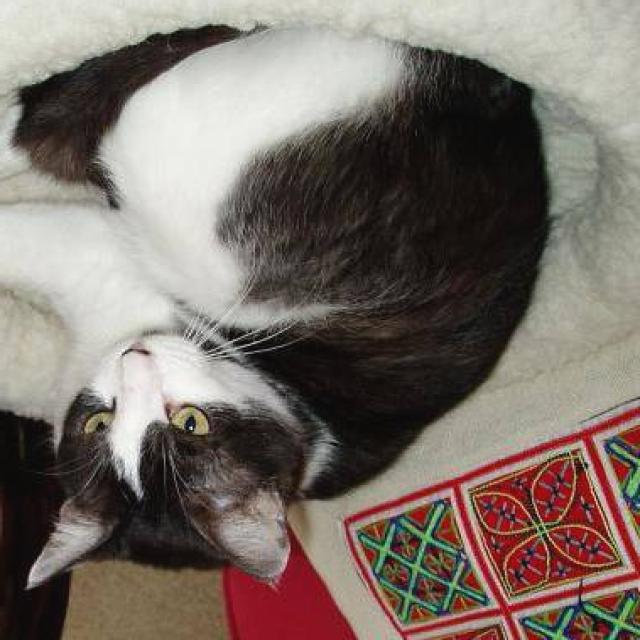Kucing: (10, 40, 559, 616)
